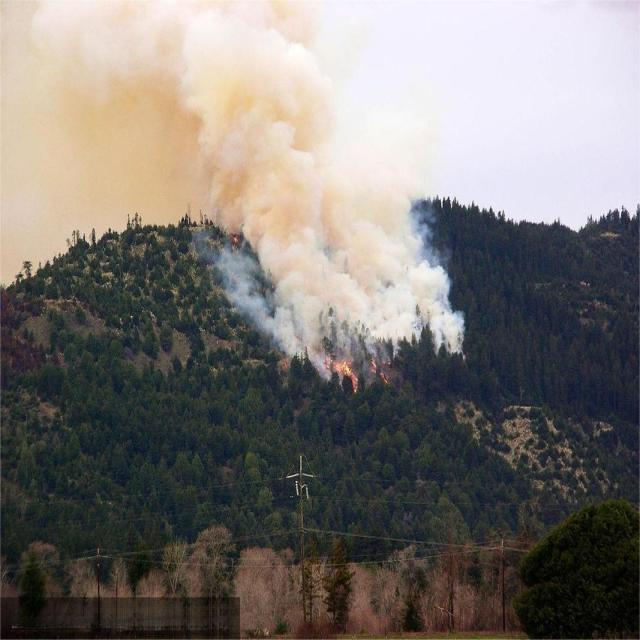Smoke: (38, 0, 358, 182), (211, 184, 463, 365)
